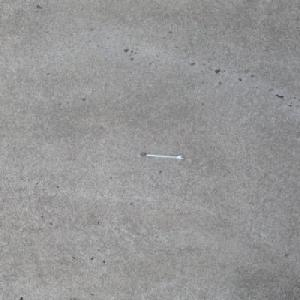Wrench: (138, 152, 184, 159)
